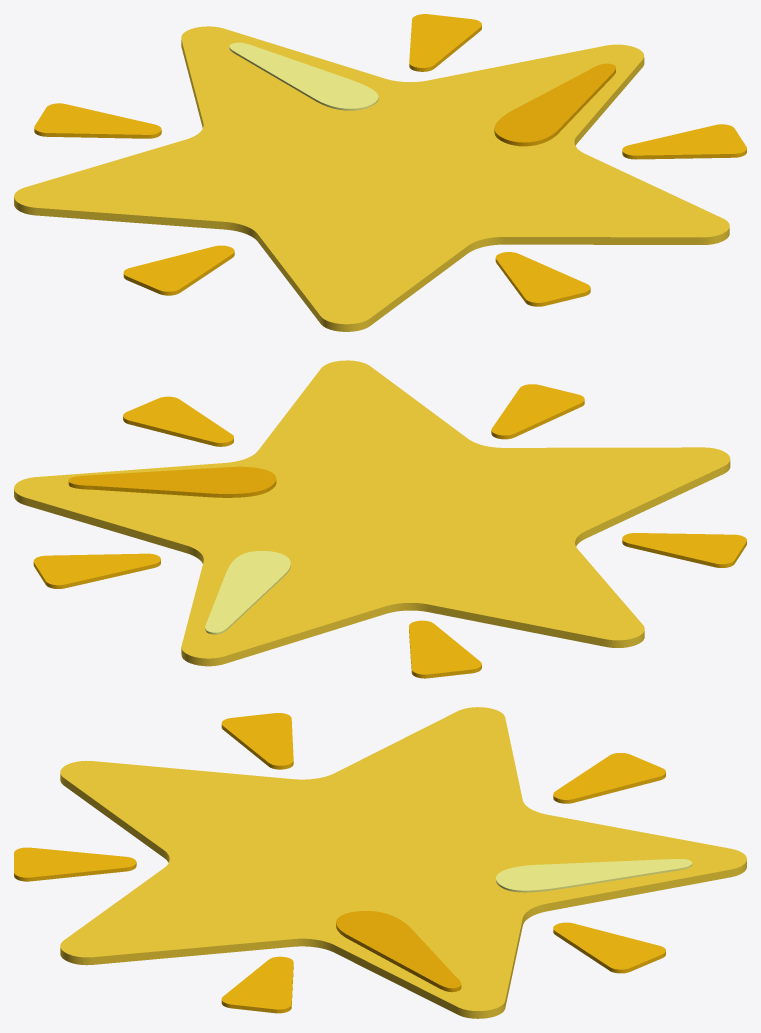
File: emoji_u1f31f.glb
The picture shows the model from 3 angles, top to bottom: view 1: azimuth 30°, elevation 25°; view 2: azimuth 150°, elevation 25°; view 3: azimuth 270°, elevation 25°; orthographic projection.
Visible parts, largest first — view 1: emoji_u1f31f; view 2: emoji_u1f31f; view 3: emoji_u1f31f.
Boxes of the visible parts, bbox=[...] form: emoji_u1f31f: bbox=[14, 14, 746, 331]; emoji_u1f31f: bbox=[14, 360, 746, 678]; emoji_u1f31f: bbox=[14, 707, 746, 1018].
Bounding box in the file's own units: 0.0338 × 0.0008 × 0.0345.
